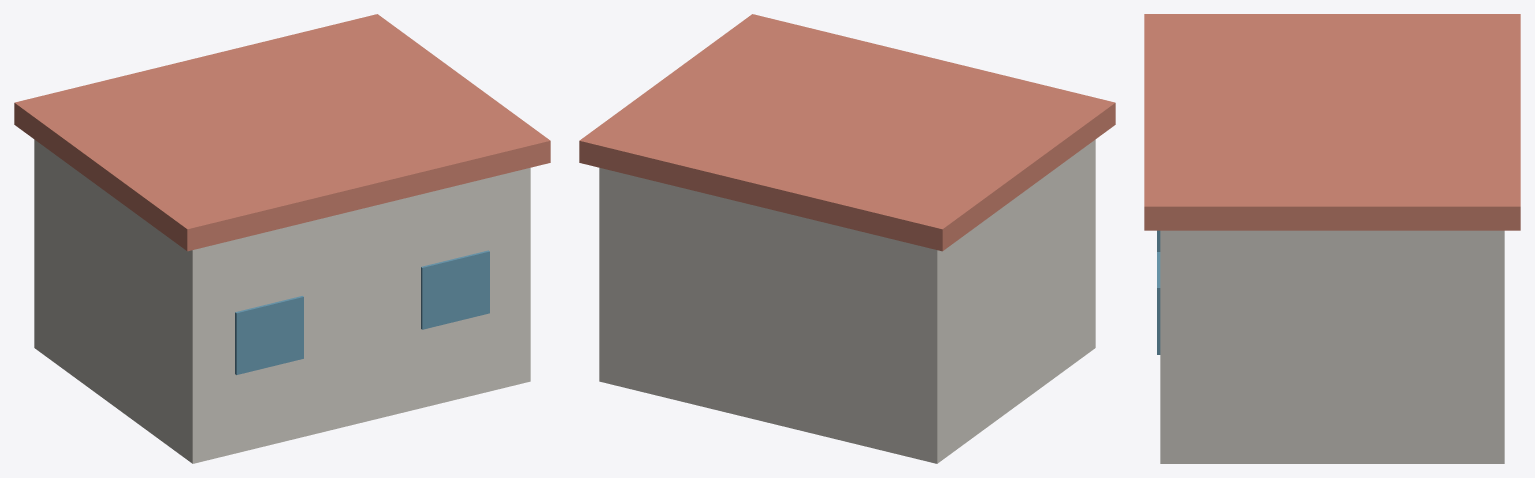
The model's file is house_modern_01_clean.glb.
3 views of the same model, side by side, from view 1: azimuth 30°, elevation 25°; view 2: azimuth 150°, elevation 25°; view 3: azimuth 270°, elevation 25° (orthographic). The views are drawn at different scales.
Parts seen in each view (by area): view 1: Cube, Cube.001, Cube.003, Cube.002; view 2: Cube, Cube.001; view 3: Cube.001, Cube, Cube.003.
Boxes of the visible parts, x1,y1,x2,y2 form: Cube: (34, 139, 530, 463); Cube.001: (14, 14, 550, 251); Cube.003: (421, 250, 489, 329); Cube.002: (235, 296, 303, 374); Cube: (599, 139, 1095, 463); Cube.001: (579, 14, 1115, 251); Cube.001: (1144, 14, 1520, 230); Cube: (1160, 230, 1504, 463); Cube.003: (1157, 252, 1160, 354).
Bounding box in the file's own units: 8.6 × 5.5 × 7.1.
